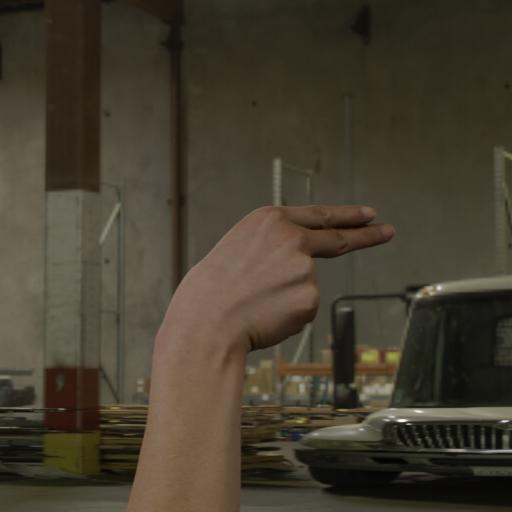H: (154, 171, 400, 373)
